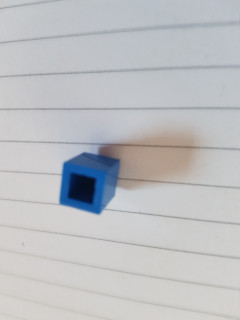1x1 blue: (56, 150, 122, 217)
